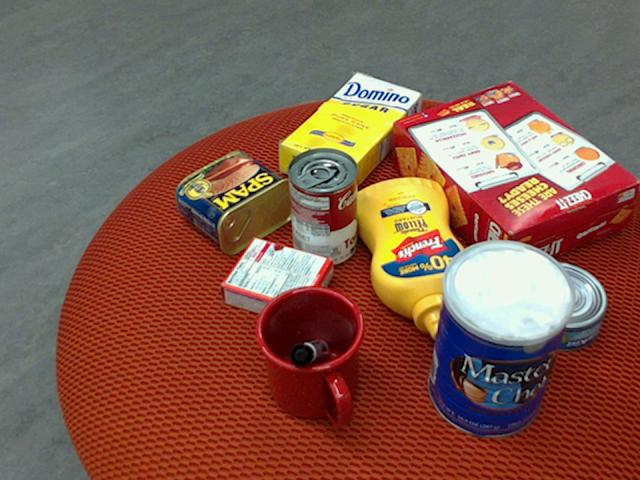cracker_box: (391, 80, 638, 275)
gelatin_box: (217, 236, 329, 329)
large_marker: (290, 340, 328, 368)
master_chef_can: (427, 242, 577, 439)
mug: (253, 286, 364, 427)
mustard_bottle: (352, 177, 470, 342)
potted_meat_can: (174, 149, 297, 254)
sugar_box: (277, 72, 420, 195)
tomato_soup_can: (287, 145, 358, 266)
tuna_fish_can: (511, 261, 607, 350)
